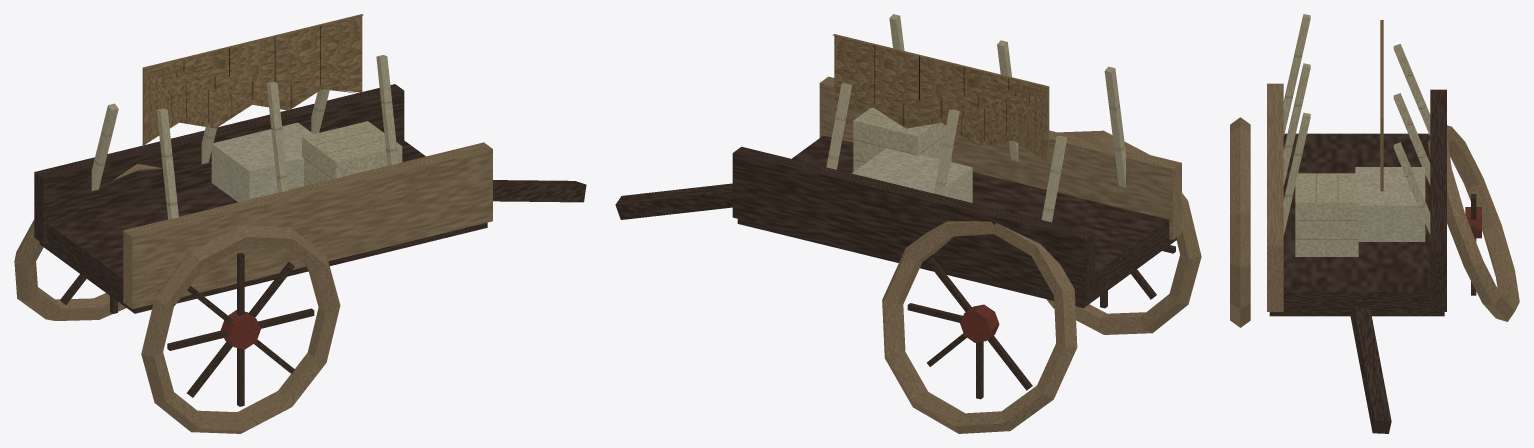
File: wrecked_caravan.glb
3 views of the same model, side by side, from view 1: azimuth 30°, elevation 25°; view 2: azimuth 150°, elevation 25°; view 3: azimuth 270°, elevation 25° (orthographic). The views are drawn at different scales.
Parts seen in each view (by area): view 1: wrecked_caravan; view 2: wrecked_caravan; view 3: wrecked_caravan.
Boxes of the visible parts, x1,y1,x2,y2 form: wrecked_caravan: (14,14,586,433); wrecked_caravan: (615,14,1201,433); wrecked_caravan: (1230,14,1519,433).
Bounding box in the file's own units: 3.31 × 1.91 × 1.74.
Materials: 1 (1 with a texture image).
